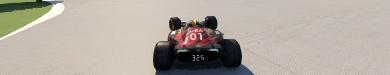Car: (152, 15, 242, 70)
grass: (0, 0, 52, 42)
